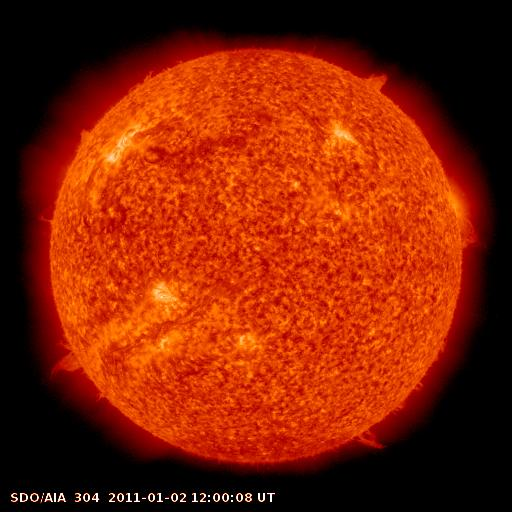prominence: (42, 331, 110, 413), (118, 55, 187, 96), (353, 57, 406, 109), (341, 417, 395, 462), (24, 197, 65, 238), (61, 116, 101, 153)
